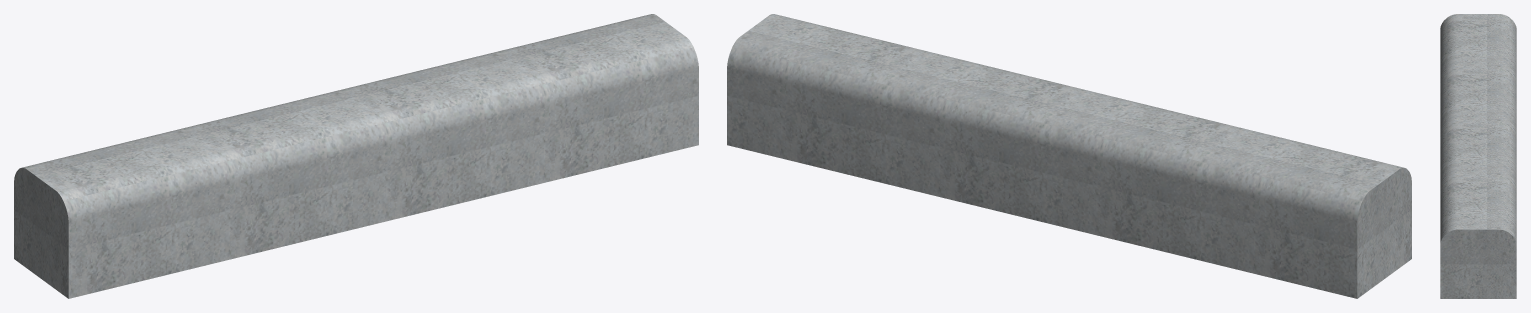
The model's file is SM_Road_facility2.glb.
3 renders of one model, left to right at view 1: azimuth 30°, elevation 25°; view 2: azimuth 150°, elevation 25°; view 3: azimuth 270°, elevation 25°, orthographic. The views are drawn at different scales.
Parts seen in each view (by area): view 1: SM_Road_facility2; view 2: SM_Road_facility2; view 3: SM_Road_facility2.
Part boxes in pixels (left/top/right/bottom): SM_Road_facility2: left=14, top=14, right=698, bottom=298; SM_Road_facility2: left=727, top=14, right=1411, bottom=298; SM_Road_facility2: left=1440, top=14, right=1516, bottom=298.
Bounding box in the file's own units: 1 × 0.15 × 0.15.
1 material, 1 textured.
